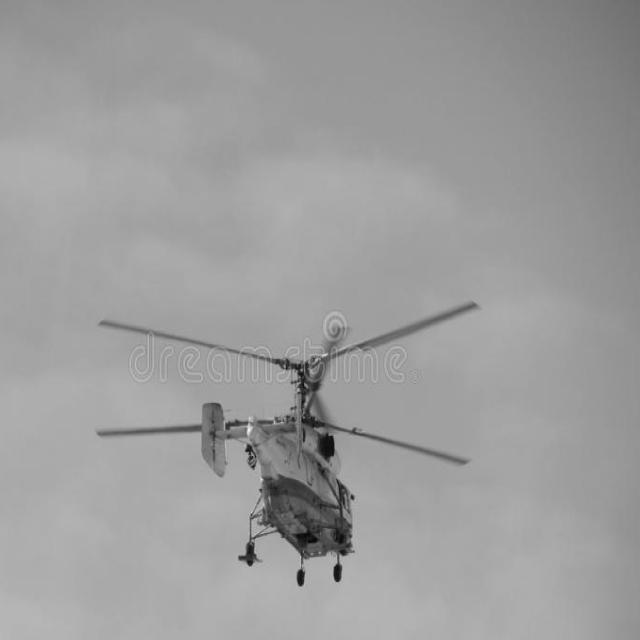helicopter: (86, 296, 480, 586)
